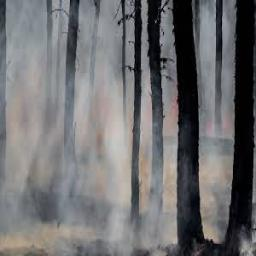Low smoke: (0, 0, 248, 256)
